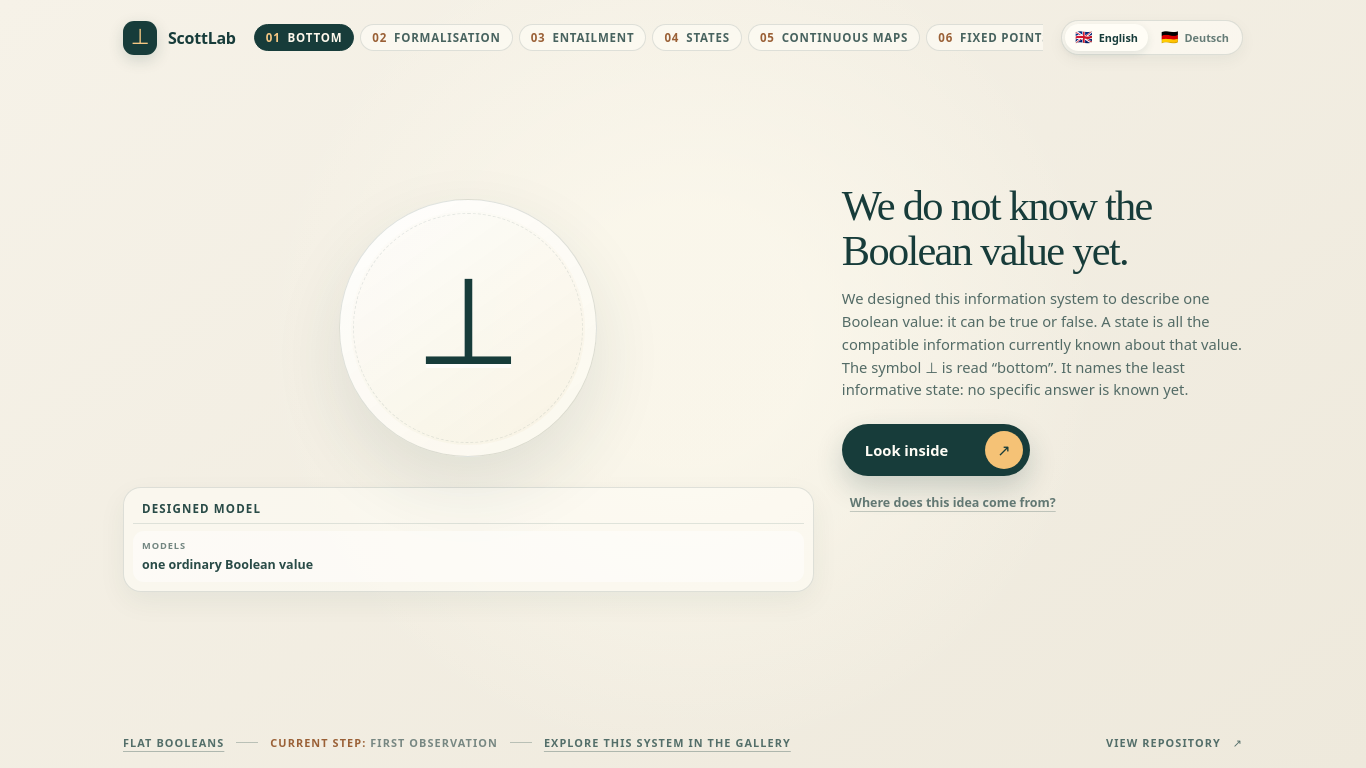
ScottLab introduction and bottom-first lesson › reveals the model rule and its derived states progressively
The image size is (1366, 768).
Click the button "Look inside ↗" at (936, 450), box top-left (842, 424), bottom-right (1030, 476)
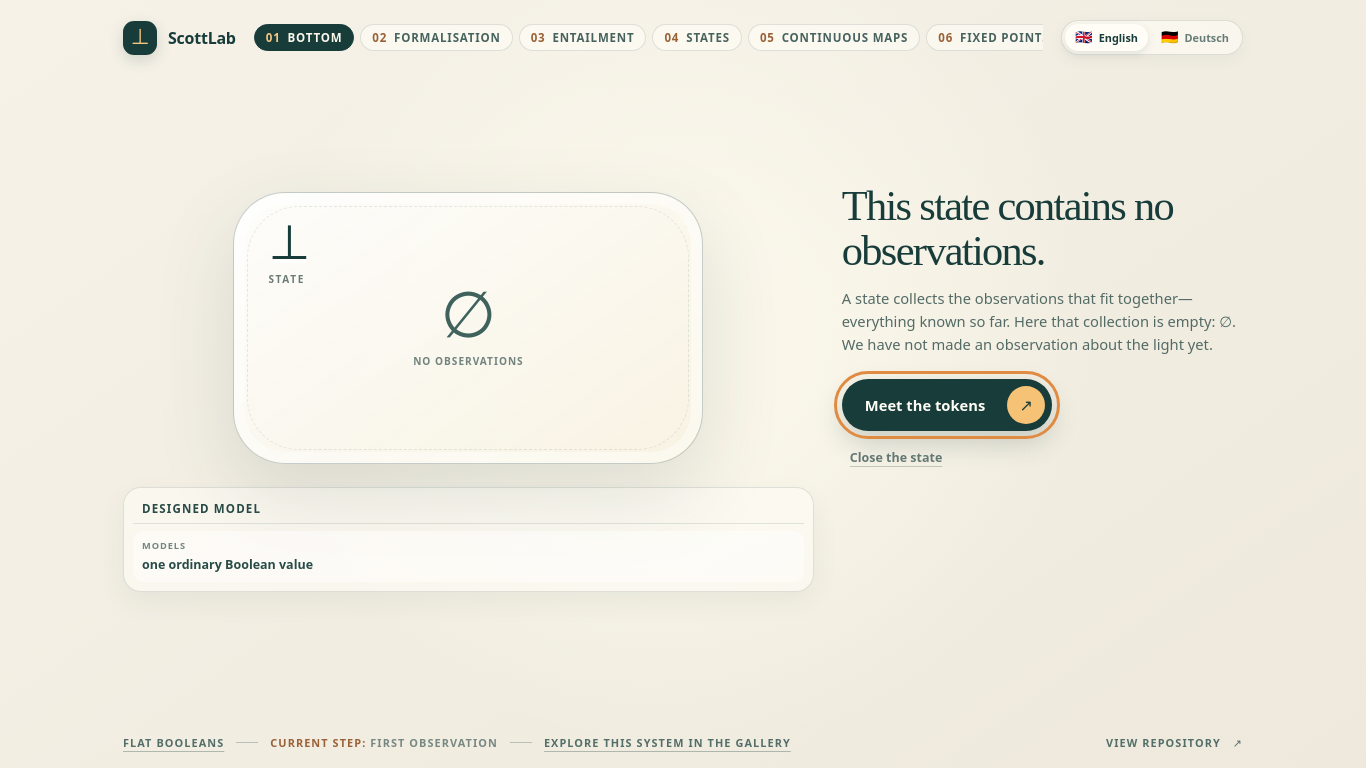
Click the button "Meet the tokens ↗" at (947, 404), box top-left (842, 378), bottom-right (1052, 430)
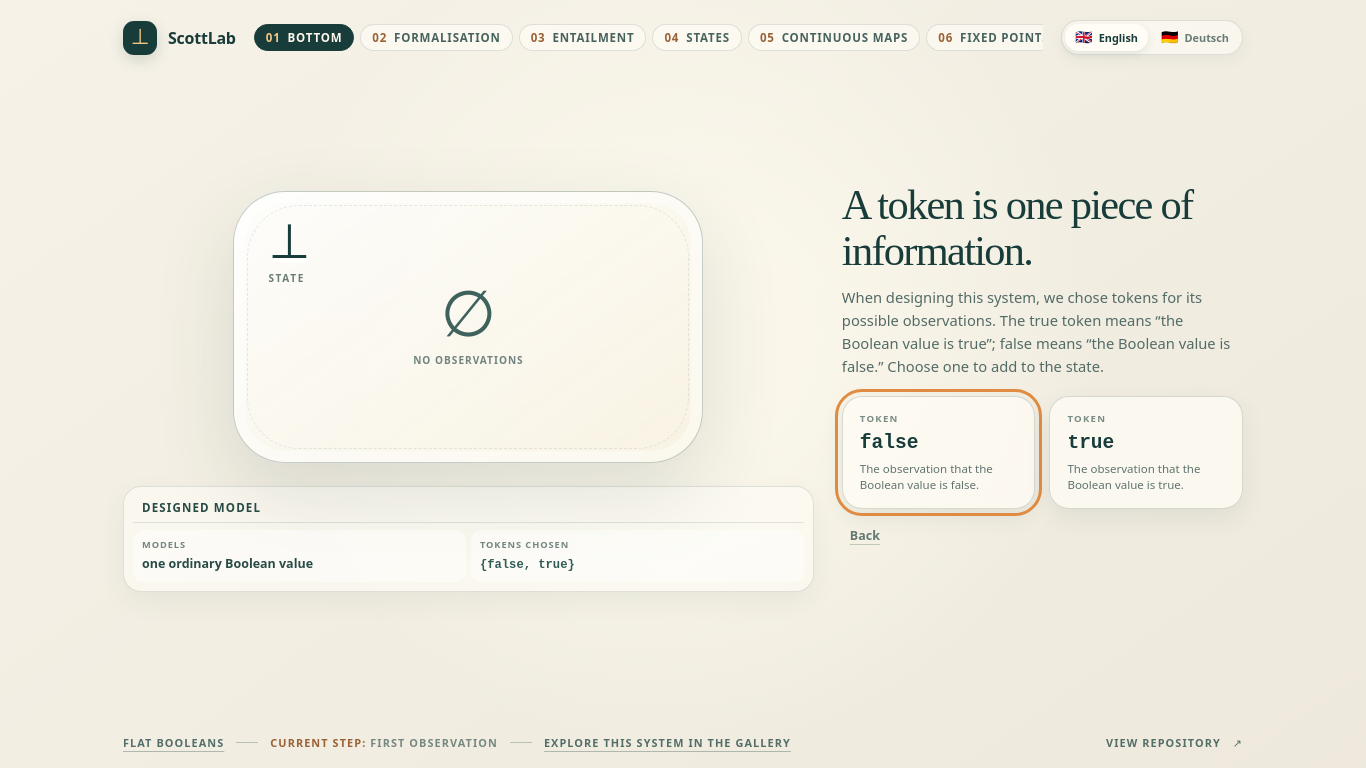
Click the button with aria-label "Add true token" at (1146, 452), box top-left (1049, 396), bottom-right (1243, 509)
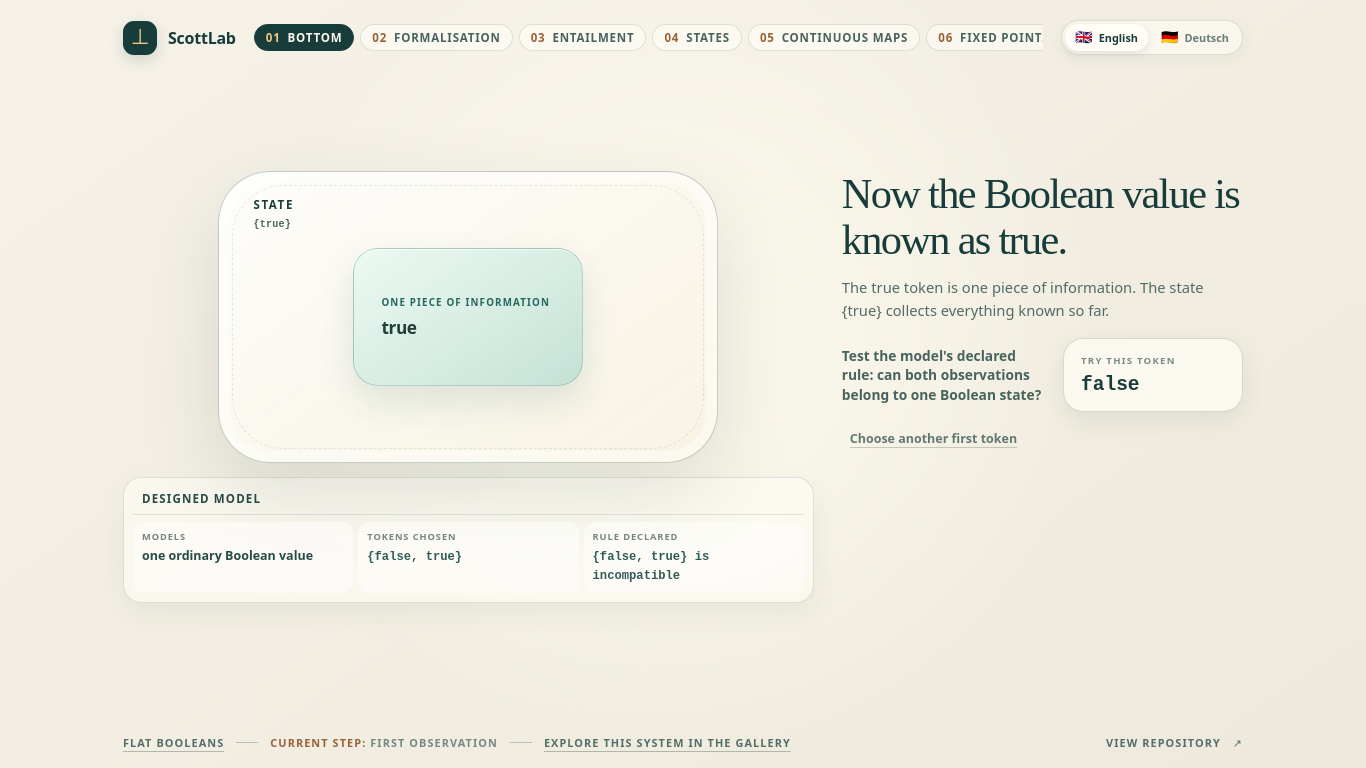
Now the text "Tokens chosen" is shown, box top-left (367, 530), bottom-right (456, 543)
Now the text "{false, true}" is shown, box top-left (367, 550), bottom-right (462, 564)
Now the text "Rule declared" is shown, box top-left (593, 530), bottom-right (678, 543)
Click the button with aria-label "Try adding false token" at (1153, 375), box top-left (1063, 338), bottom-right (1243, 412)
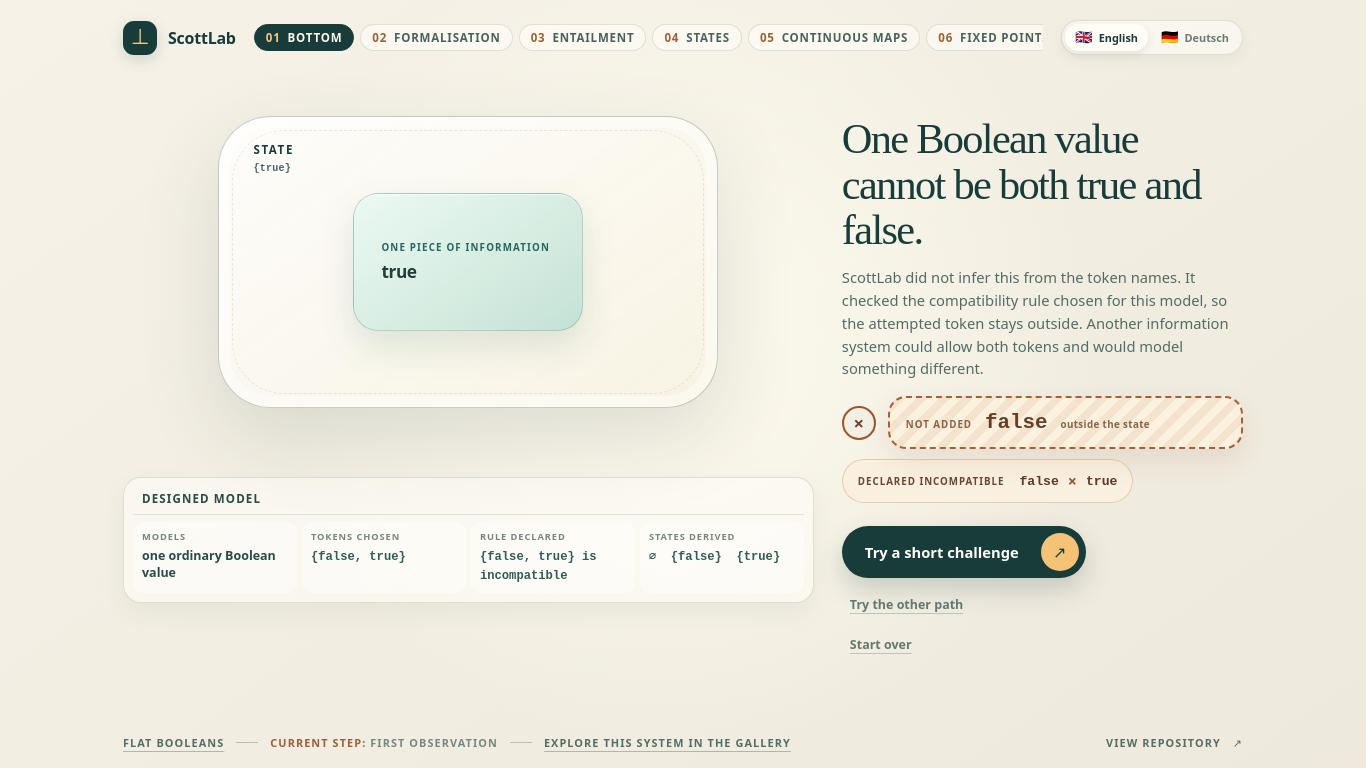
Now the text "States derived" is shown, box top-left (649, 530), bottom-right (735, 543)
Now the text "∅ {false} {true}" is shown, box top-left (649, 550), bottom-right (780, 564)
Now the text "ScottLab did not infer this from the token names" is shown, box top-left (842, 267), bottom-right (1228, 378)
